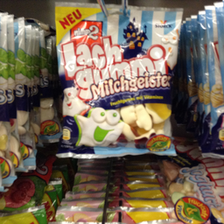candy: (52, 2, 186, 164), (1, 20, 42, 189), (192, 3, 224, 154)
